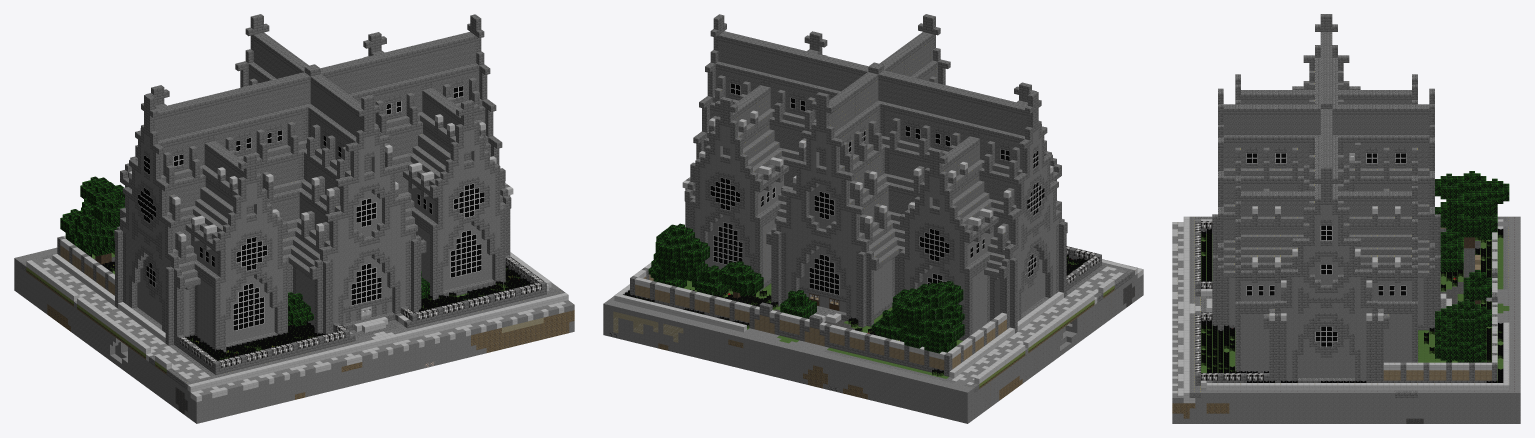
Rendered from house.obj.
3 views of the same model, side by side, from view 1: azimuth 30°, elevation 25°; view 2: azimuth 150°, elevation 25°; view 3: azimuth 270°, elevation 25° (orthographic). The views are drawn at different scales.
Parts seen in each view (by area): view 1: Stone_Brick, Stone, Stone_Brick_Stairs, Cobblestone_Stairs, Cobblestone, Stone_Slab, Glass_Pane, Leaves, Double_Slab, Tall_Grass, Iron_Bars, Dirt (+2 smaller); view 2: Stone, Stone_Brick, Stone_Brick_Stairs, Cobblestone_Stairs, Leaves, Cobblestone, Stone_Slab, Glass_Pane, Wooden_Plank, Grass, Double_Slab, Tall_Grass (+2 smaller); view 3: Stone, Stone_Brick, Stone_Brick_Stairs, Cobblestone_Stairs, Cobblestone, Leaves, Stone_Slab, Tall_Grass, Grass, Glass_Pane, Iron_Bars, Double_Slab (+3 smaller).
Boxes of the visible parts, x1,y1,x2,y2 form: Stone_Brick: (57,26,546,387); Stone: (14,129,574,423); Stone_Brick_Stairs: (114,14,511,323); Cobblestone_Stairs: (155,40,505,287); Cobblestone: (20,69,564,389); Stone_Slab: (26,114,568,392); Glass_Pane: (138,85,484,330); Leaves: (60,176,429,326); Double_Slab: (42,258,565,402); Tall_Grass: (89,252,532,360); Iron_Bars: (180,257,543,368); Dirt: (47,304,574,399); Stone: (603,125,1143,423); Stone_Brick: (630,26,1131,376); Stone_Brick_Stairs: (684,14,1067,335); Cobblestone_Stairs: (689,39,1027,277); Leaves: (648,223,964,353); Cobblestone: (704,67,1134,392); Stone_Slab: (614,110,1137,383); Glass_Pane: (710,83,1044,295); Wooden_Plank: (635,274,1006,370); Grass: (684,264,1114,388); Double_Slab: (813,262,1143,384); Tall_Grass: (623,254,1087,376); Stone: (1172,204,1520,423); Stone_Brick: (1195,26,1497,397); Stone_Brick_Stairs: (1212,14,1497,323); Cobblestone_Stairs: (1223,70,1429,315); Cobblestone: (1189,142,1509,397); Leaves: (1435,171,1509,362); Stone_Slab: (1183,206,1509,397); Tall_Grass: (1201,229,1503,382); Grass: (1201,231,1509,382); Glass_Pane: (1246,153,1406,346); Iron_Bars: (1195,221,1263,380); Double_Slab: (1172,219,1503,403).
Size of the model in its own units: 73 by 48 by 61.
